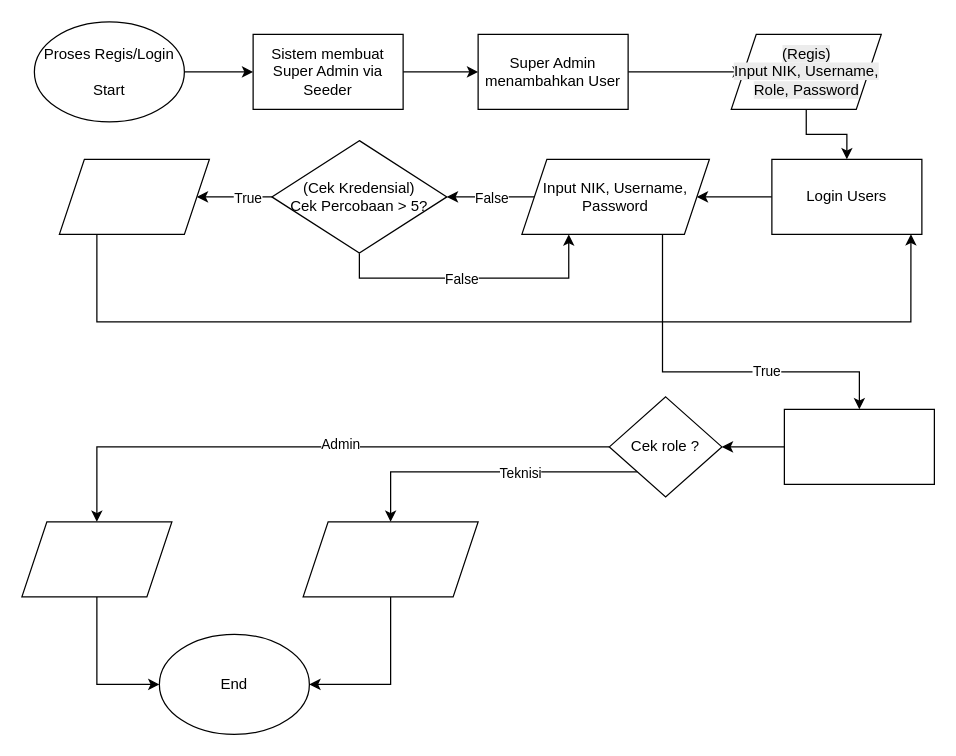
Image size: 956x756. Some labels were removed from this diagram. The box of each missing label's shape, as (x1, y1, x2, y2) in pixels:
Dashboard Admin: (21, 521, 172, 597)
Dashboard Teknisi: (302, 521, 478, 597)
Locked Account: (58, 158, 209, 234)
Sistem Generate JWT: (783, 408, 934, 484)
